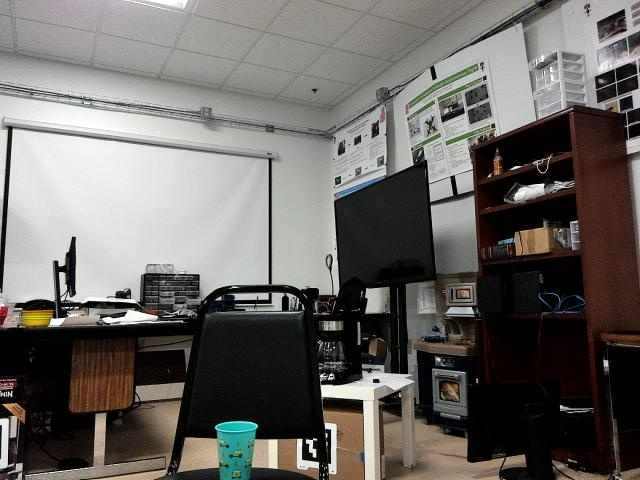coffee_cup: (212, 417, 259, 480)
